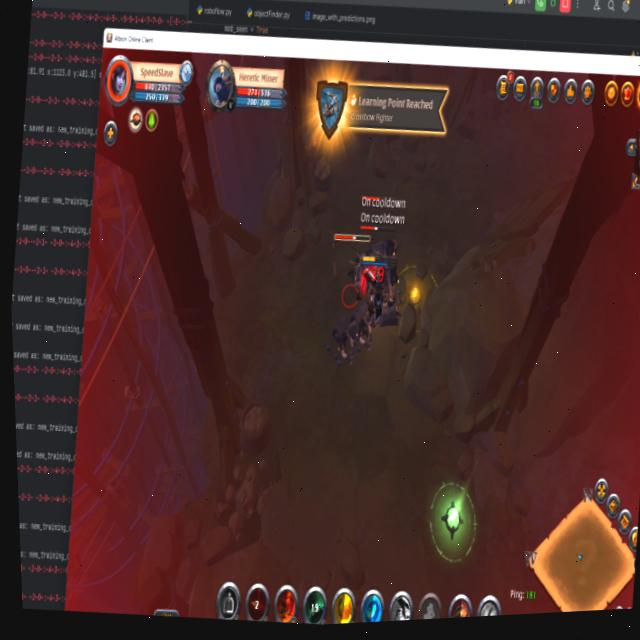ore: (355, 186, 406, 279), (324, 225, 379, 308)
red: (353, 251, 395, 327)
